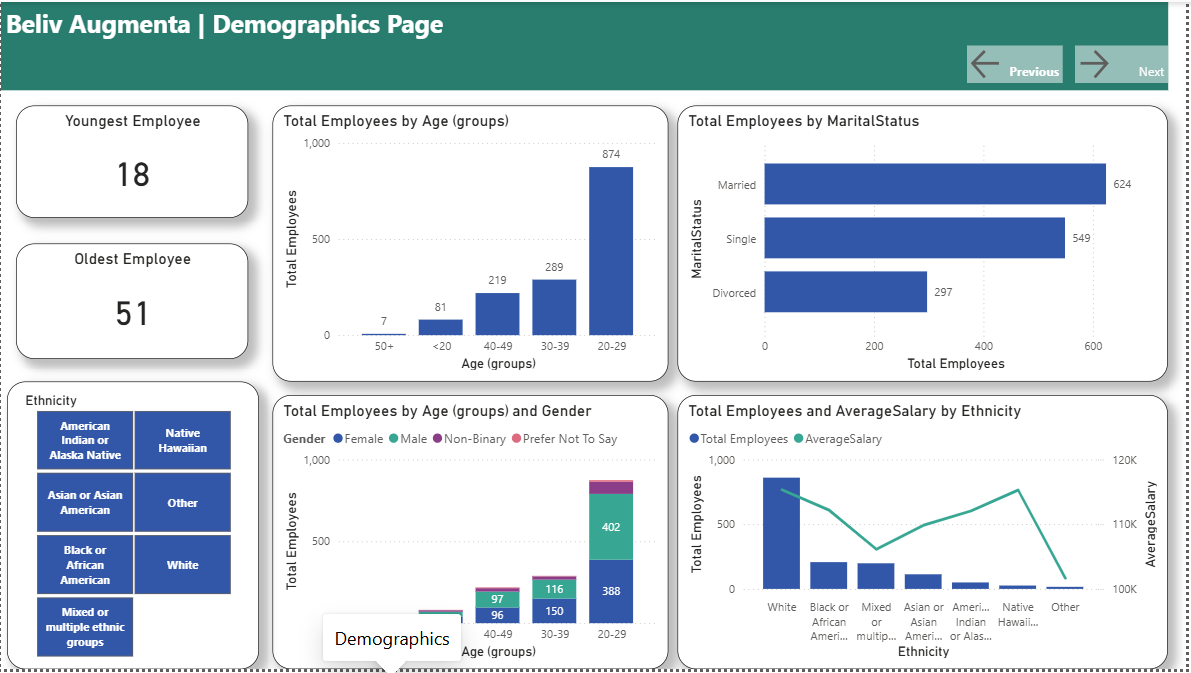

The dashboard page shown, as its layout file describes it:
{"tool":"powerbi","page":{"name":"Demographics","canvas":[1280,720],"ordinal":2},"visuals":[{"type":"card","title":"Youngest Employee","fields":{"Values":["Min(DimEmployee.Age)"]},"box":[16.2,111.7,251,121.4],"z":0},{"type":"card","title":"Oldest Employee","fields":{"Values":["Max(DimEmployee.Age)"]},"box":[16.2,260.7,251,124.7],"z":1000},{"type":"clusteredColumnChart","fields":{"Y":["Calmeasures.Total Employees"],"Category":["DimEmployee.Age (groups)"]},"box":[293.1,111.7,427.5,297.9],"z":2000},{"type":"columnChart","fields":{"Category":["DimEmployee.Age (groups)"],"Y":["Calmeasures.Total Employees"],"Series":["DimEmployee.Gender"]},"box":[293.1,424.2,427.5,296.3],"z":3000},{"type":"clusteredBarChart","fields":{"Y":["Calmeasures.Total Employees"],"Category":["DimEmployee.MaritalStatus"]},"box":[730.3,111.7,529.5,297.9],"z":4000},{"type":"slicer","fields":{"Values":["DimEmployee.Ethnicity"]},"box":[6.5,409.7,272,310.9],"z":5000},{"type":"lineStackedColumnComboChart","fields":{"Category":["DimEmployee.Ethnicity"],"Y":["Calmeasures.Total Employees"],"Y2":["Calmeasures.AverageSalary"]},"box":[730.3,424.2,529.5,296.3],"z":6000},{"type":"textbox","box":[0,0,1259.8,95.5],"z":7000},{"type":"actionButton","box":[1042.8,47,103.6,40.5],"z":8000},{"type":"actionButton","box":[1159.4,47,100.4,40.5],"z":9000}]}

Visuals, with their boxes in screenshot pixels (x1, y1, x2, y2), scaled from the page's 1280x720 canvas onto the 1191x673 screenshot:
"Youngest Employee" card: (x1=15, y1=104, x2=249, y2=218)
"Oldest Employee" card: (x1=15, y1=244, x2=249, y2=360)
clusteredColumnChart - Calmeasures.Total Employees x DimEmployee.Age (groups): (x1=273, y1=104, x2=670, y2=383)
columnChart - DimEmployee.Age (groups) x Calmeasures.Total Employees: (x1=273, y1=397, x2=670, y2=672)
clusteredBarChart - Calmeasures.Total Employees x DimEmployee.MaritalStatus: (x1=680, y1=104, x2=1172, y2=383)
slicer - DimEmployee.Ethnicity: (x1=6, y1=383, x2=259, y2=672)
lineStackedColumnComboChart - DimEmployee.Ethnicity x Calmeasures.Total Employees: (x1=680, y1=397, x2=1172, y2=672)
textbox: (x1=0, y1=0, x2=1172, y2=89)
actionButton: (x1=970, y1=44, x2=1067, y2=82)
actionButton: (x1=1079, y1=44, x2=1172, y2=82)
